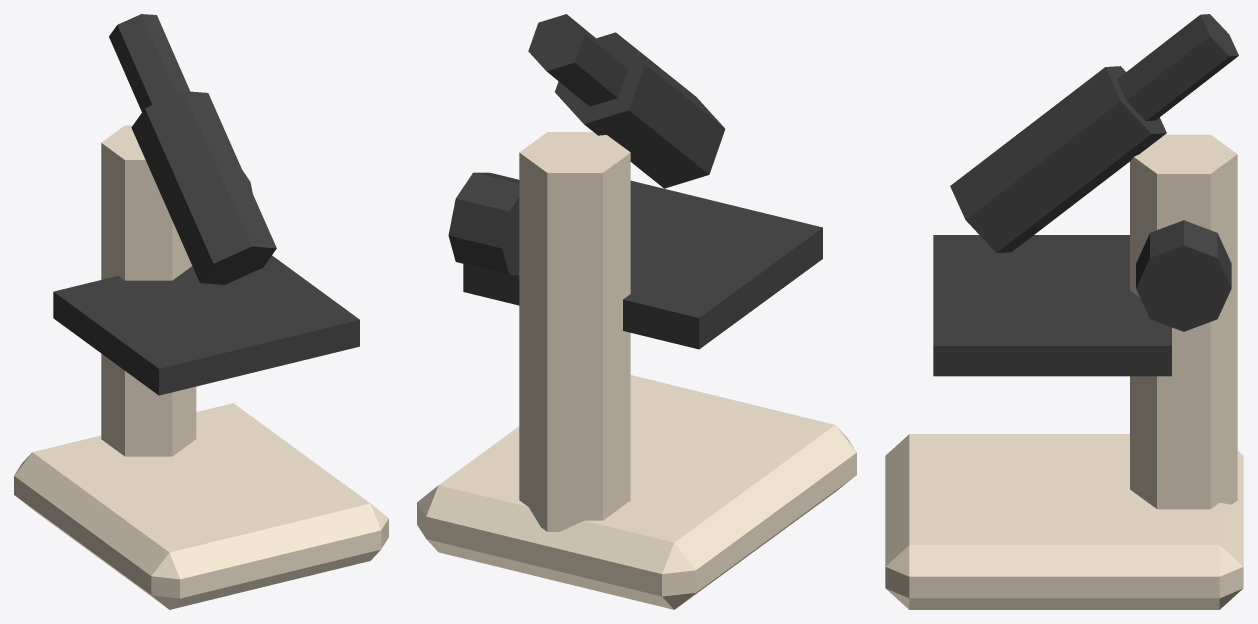
3 renders of one model, left to right at view 1: azimuth 30°, elevation 25°; view 2: azimuth 150°, elevation 25°; view 3: azimuth 270°, elevation 25°, orthographic. The views are drawn at different scales.
Visible parts, largest first — view 1: Foot, Stage, Arm, Optical barrel, Eyepiece; view 2: Foot, Arm, Stage, Optical barrel, Focus knob, Eyepiece; view 3: Foot, Stage, Arm, Optical barrel, Focus knob, Eyepiece.
Boxes of the visible parts, x1=… form: Foot: x1=14, y1=403, x2=388, y2=609; Stage: x1=53, y1=255, x2=359, y2=395; Arm: x1=101, y1=125, x2=196, y2=456; Optical barrel: x1=131, y1=91, x2=276, y2=284; Eyepiece: x1=109, y1=14, x2=190, y2=111; Foot: x1=417, y1=375, x2=856, y2=609; Arm: x1=519, y1=132, x2=630, y2=531; Stage: x1=463, y1=180, x2=822, y2=349; Optical barrel: x1=555, y1=32, x2=725, y2=188; Focus knob: x1=448, y1=172, x2=519, y2=275; Eyepiece: x1=528, y1=14, x2=627, y2=106; Foot: x1=885, y1=434, x2=1243, y2=609; Stage: x1=933, y1=235, x2=1171, y2=376; Arm: x1=1130, y1=134, x2=1237, y2=509; Optical barrel: x1=950, y1=66, x2=1166, y2=252; Focus knob: x1=1136, y1=220, x2=1231, y2=331; Eyepiece: x1=1117, y1=14, x2=1238, y2=121.
Size of the model in its own units: 26 by 49.9 by 30.
